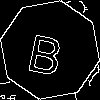B: (25, 25, 68, 77)
